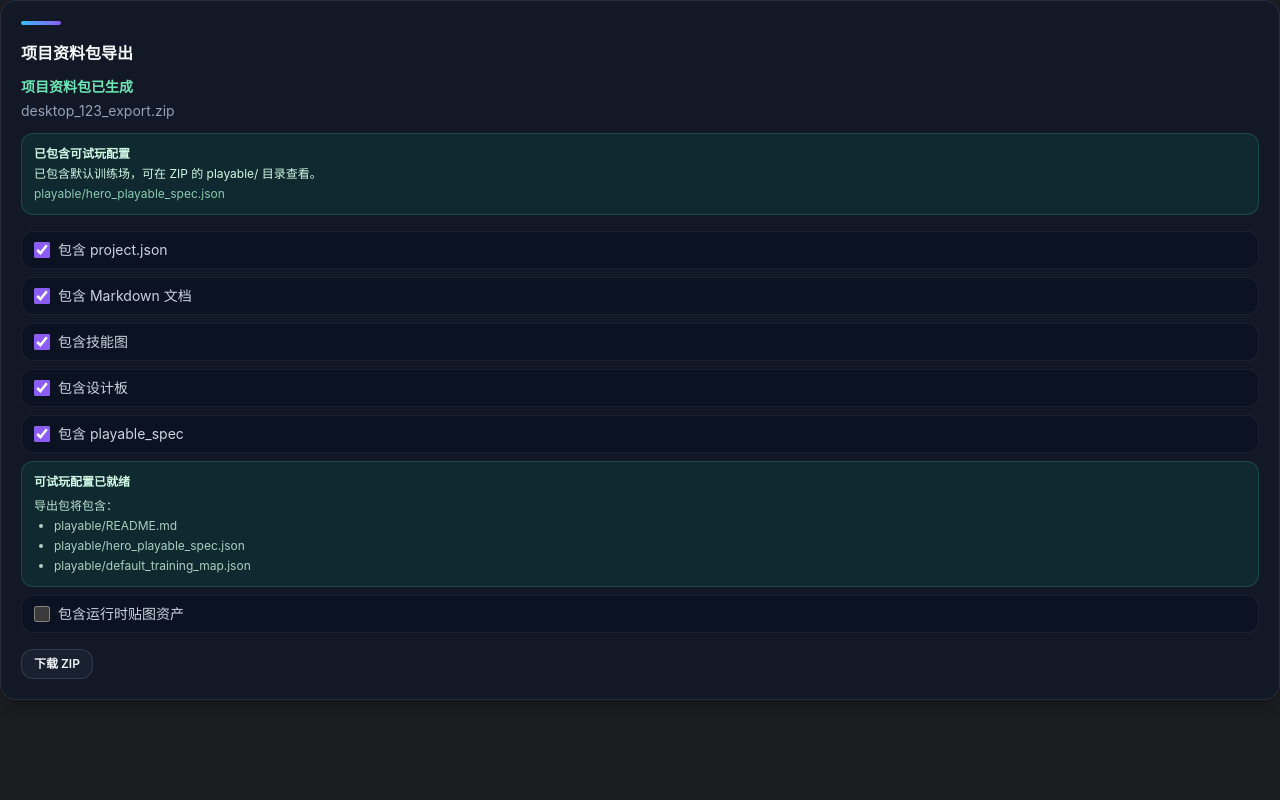
Test: ProjectExportPanel › does not show playable completion summary when include_playable is false
Click the checkbox labelled "包含 playable_spec" at (42, 434), box x1=34 y1=426 x2=50 y2=442
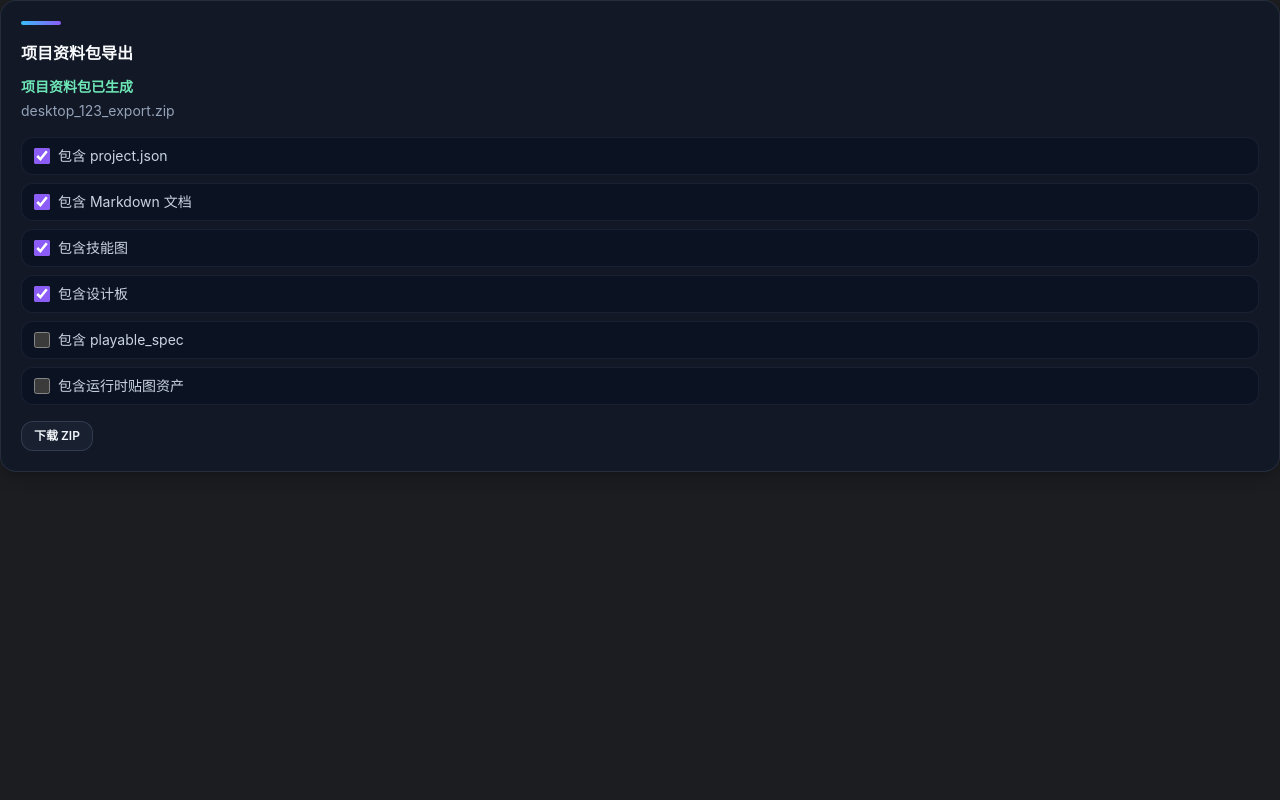
Check: the text "已包含可试玩配置" is gone
